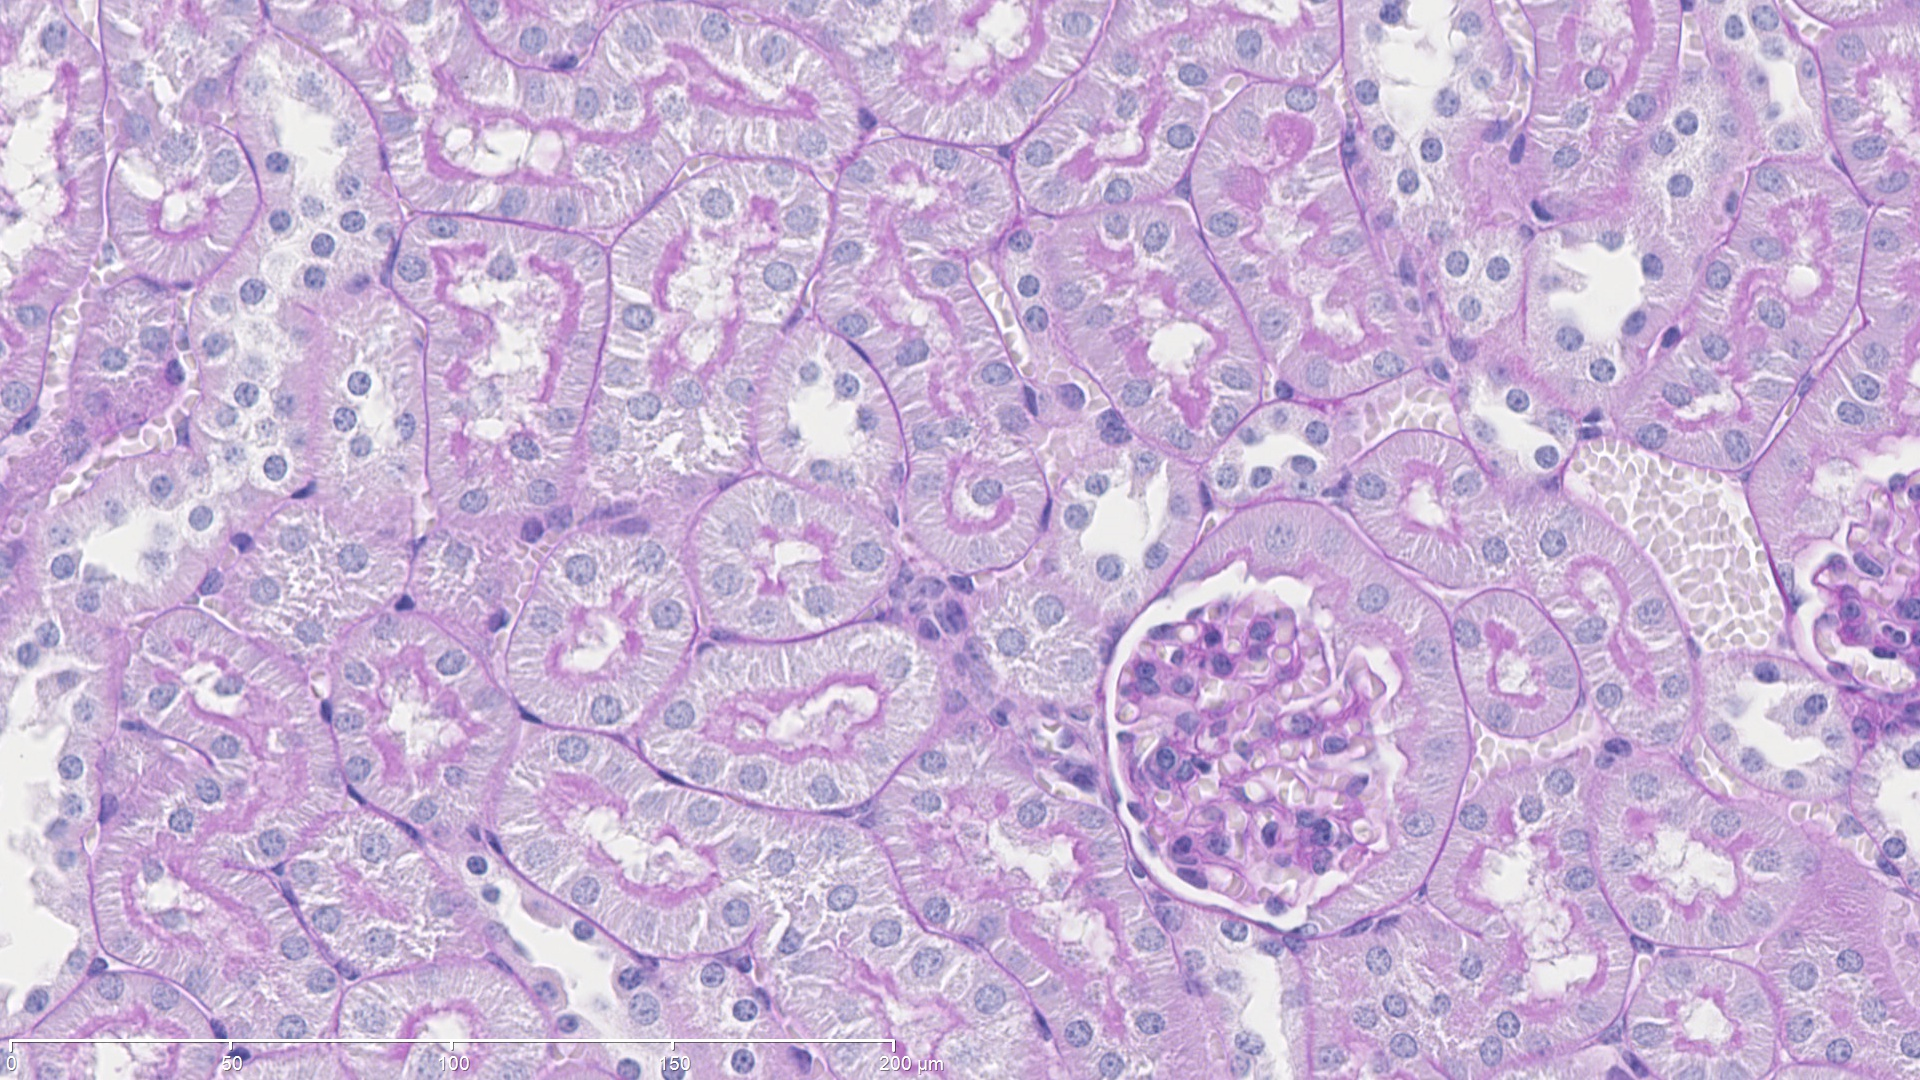Glomeruli: (1109, 578, 1416, 928)
